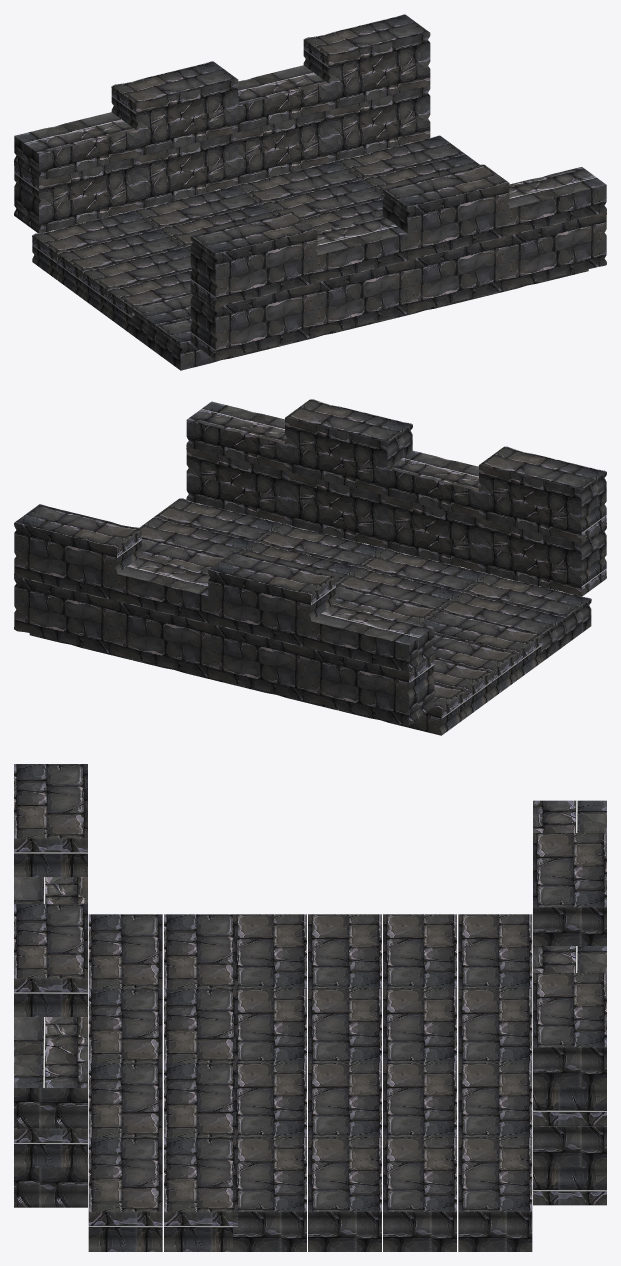
File: Wall.fbx
3 views of the same model, one above another, from view 1: azimuth 30°, elevation 25°; view 2: azimuth 150°, elevation 25°; view 3: azimuth 270°, elevation 25° (orthographic). The views are drawn at different scales.
Visible parts, largest first — view 1: polySurface53, polySurface32, polySurface49, polySurface50; view 2: polySurface53, polySurface32, polySurface50, polySurface49; view 3: polySurface53, polySurface49, polySurface50, polySurface32.
Boxes of the visible parts, <box> form: polySurface53: <box>130,164,606,370</box>; polySurface32: <box>14,14,430,233</box>; polySurface49: <box>32,135,479,298</box>; polySurface50: <box>82,198,383,333</box>; polySurface53: <box>139,399,606,662</box>; polySurface32: <box>14,504,434,726</box>; polySurface50: <box>140,537,542,698</box>; polySurface49: <box>29,633,492,735</box>; polySurface53: <box>14,764,237,1251</box>; polySurface49: <box>383,914,532,1251</box>; polySurface50: <box>233,914,381,1251</box>; polySurface32: <box>533,800,606,1205</box>.
Bounding box in the file's own units: 2.15 × 0.6684 × 1.81.
